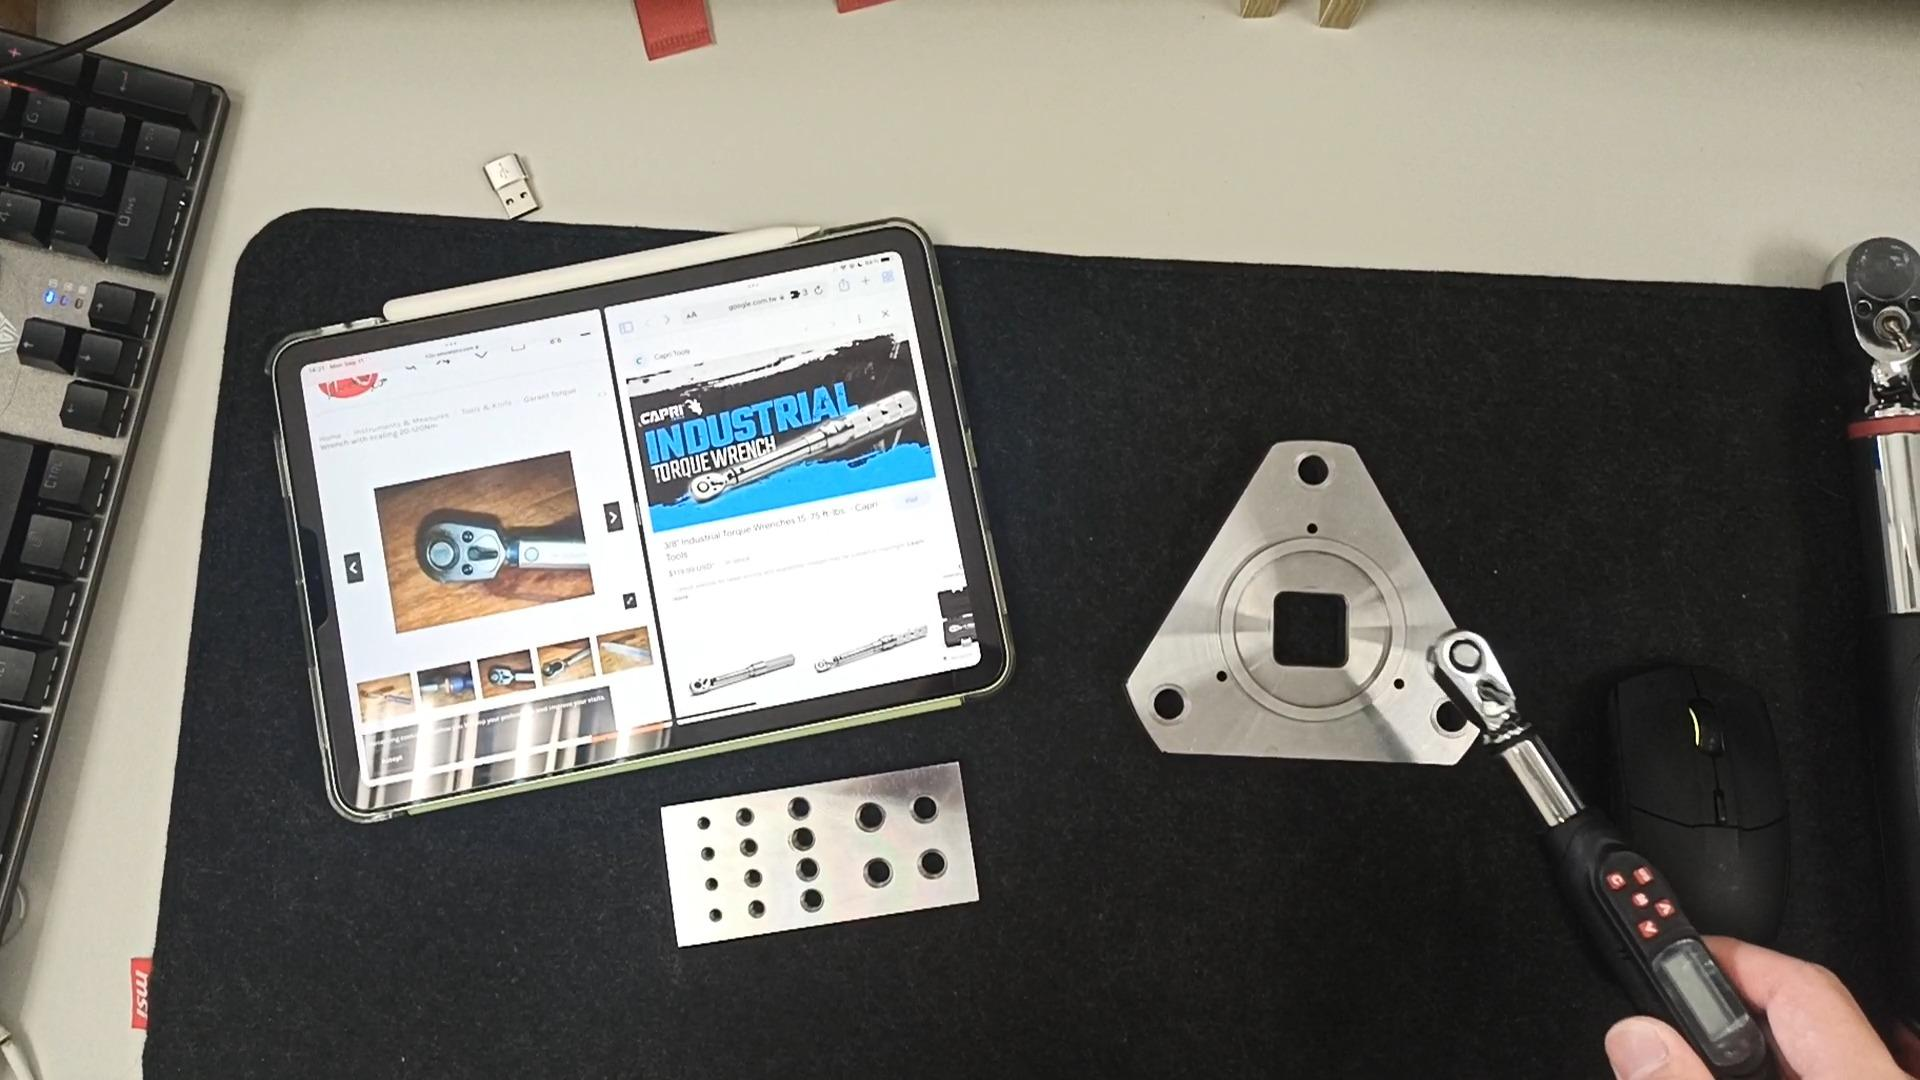Tool: (1818, 236, 1920, 429), (1422, 626, 1532, 741), (409, 506, 520, 588), (688, 471, 736, 506)
hole: (1275, 454, 1342, 500), (1427, 698, 1481, 745), (1137, 688, 1195, 732), (903, 844, 961, 885), (894, 795, 948, 832), (844, 799, 897, 836), (853, 855, 906, 890), (779, 828, 824, 857), (785, 857, 829, 886), (789, 887, 833, 915), (775, 796, 820, 823), (720, 806, 760, 828), (725, 839, 764, 861), (731, 869, 765, 891), (733, 902, 767, 922), (688, 845, 721, 864), (686, 814, 719, 832), (692, 876, 724, 894), (696, 909, 727, 926)
